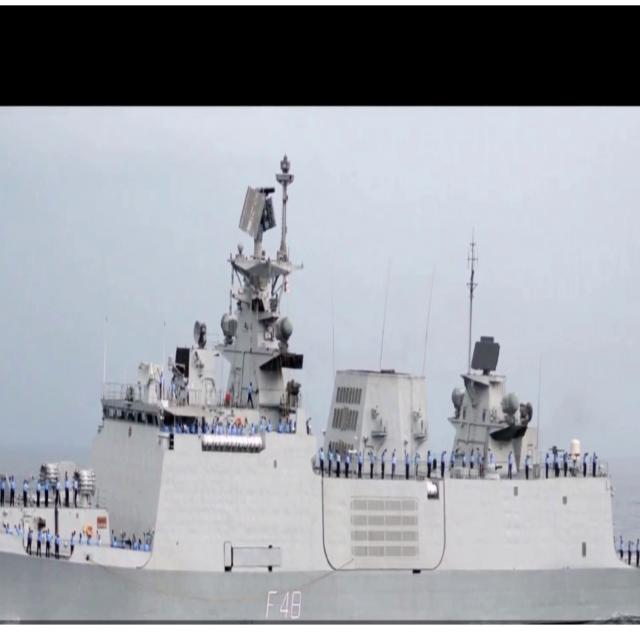OCR: (255, 582, 307, 619)
